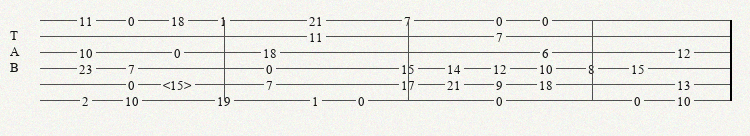0: (128, 14, 139, 27), (128, 78, 139, 91), (174, 46, 185, 59), (266, 62, 277, 75), (358, 94, 369, 107), (496, 94, 507, 107), (496, 14, 507, 27), (542, 14, 553, 27), (634, 94, 645, 107)
1: (220, 14, 231, 27), (312, 94, 323, 107)
10: (79, 46, 97, 59), (125, 94, 143, 107), (539, 62, 557, 75), (677, 94, 695, 107)
11: (79, 14, 97, 27), (309, 30, 327, 43)
12: (493, 62, 511, 75), (677, 46, 695, 59)
13: (677, 78, 695, 91)
14: (447, 62, 465, 75)
15: (401, 62, 419, 75), (631, 62, 649, 75)
17: (401, 78, 419, 91)
18: (171, 14, 189, 27), (263, 46, 281, 59), (539, 78, 557, 91)
19: (217, 94, 235, 107)
2: (82, 94, 93, 107)
21: (309, 14, 327, 27), (447, 78, 465, 91)
23: (79, 62, 97, 75)
6: (542, 46, 553, 59)
7: (128, 62, 139, 75), (266, 78, 277, 91), (404, 14, 415, 27), (496, 30, 507, 43)
8: (588, 62, 599, 75)
9: (496, 78, 507, 91)
harmonic: (163, 78, 196, 91)
